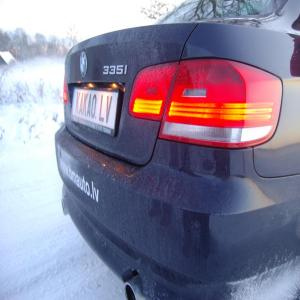Vehicle-registration-plate: (71, 86, 122, 139)
